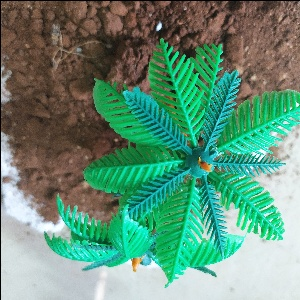plant: (42, 37, 300, 290)
